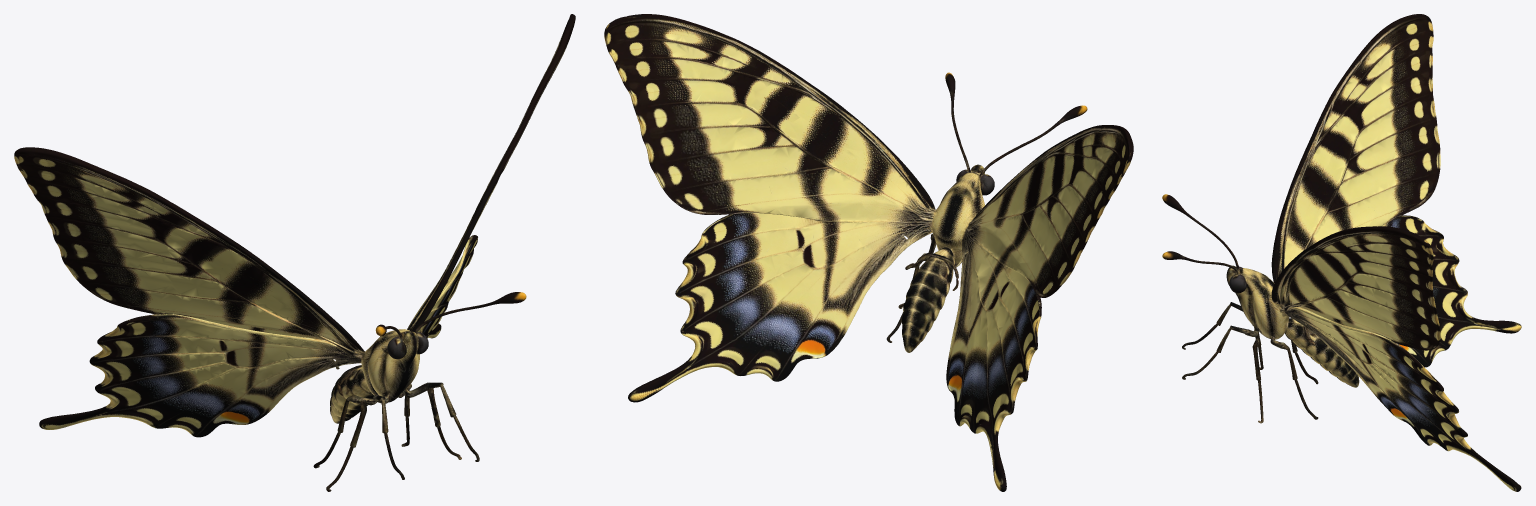
File: butterfly.glb
3 views of the same model, side by side, from view 1: azimuth 30°, elevation 25°; view 2: azimuth 150°, elevation 25°; view 3: azimuth 270°, elevation 25° (orthographic). The views are drawn at different scales.
Size of the model in its own units: 0.0845 by 0.05 by 0.0564.
Materials: 1 (1 with a texture image).
